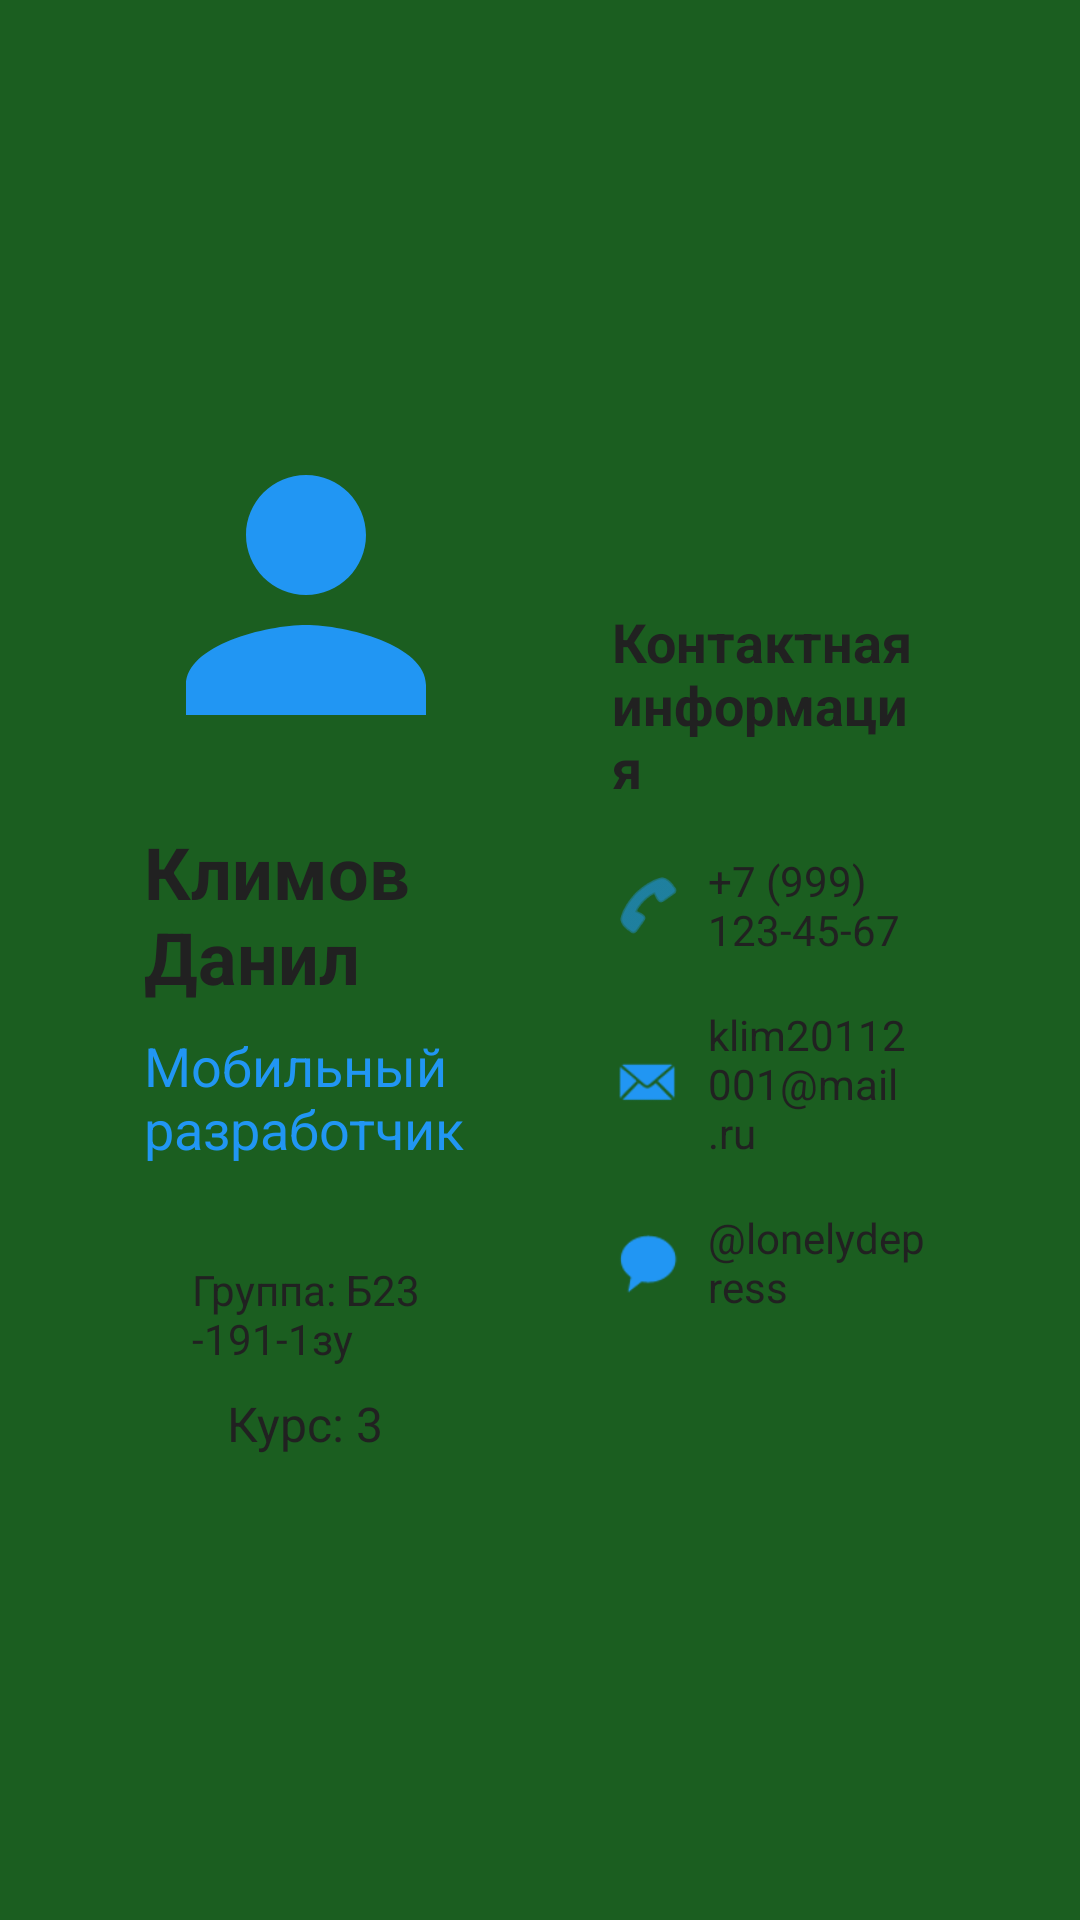

Locate icon controls on the screen. Image size 1080w x 1920h, boxes as box=[x1, y1, x2, y2].
call: box=[620, 877, 677, 934]
sym action chat: box=[620, 1235, 677, 1293]
sym action email: box=[619, 1064, 675, 1100]
